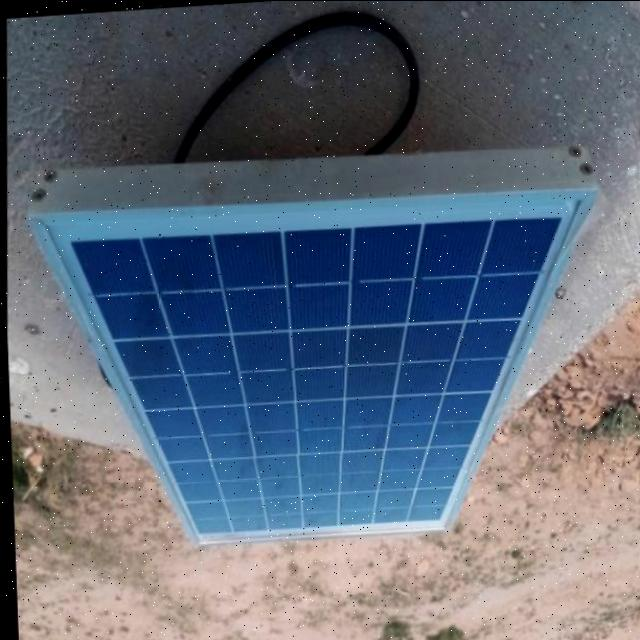Normal Solar Panel: (19, 165, 602, 558)
